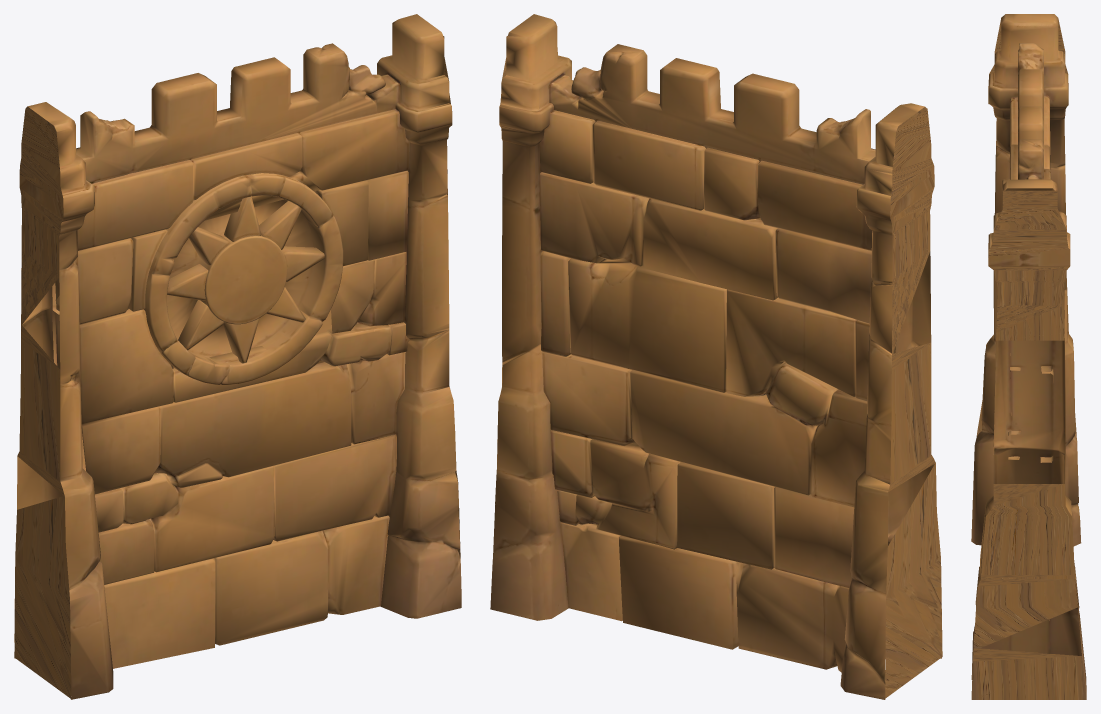
Rendered from SM_Tripo_DesertRampartPlainPanel.glb.
3 renders of one model, left to right at view 1: azimuth 30°, elevation 25°; view 2: azimuth 150°, elevation 25°; view 3: azimuth 270°, elevation 25°, orthographic. The views are drawn at different scales.
Visible parts, largest first — view 1: SM_Tripo_DesertRampartPlainPanel_LOD0; view 2: SM_Tripo_DesertRampartPlainPanel_LOD0; view 3: SM_Tripo_DesertRampartPlainPanel_LOD0.
Part boxes in pixels (left/top/right/bottom): SM_Tripo_DesertRampartPlainPanel_LOD0: left=14, top=14, right=461, bottom=699; SM_Tripo_DesertRampartPlainPanel_LOD0: left=490, top=14, right=942, bottom=699; SM_Tripo_DesertRampartPlainPanel_LOD0: left=971, top=14, right=1086, bottom=699.
Bounding box in the file's own units: 6.5 × 9 × 1.83.
1 material, 1 textured.
